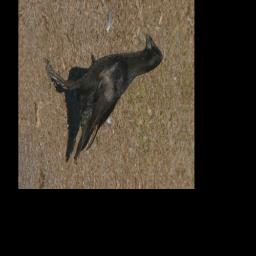Crow: (37, 30, 166, 167)
